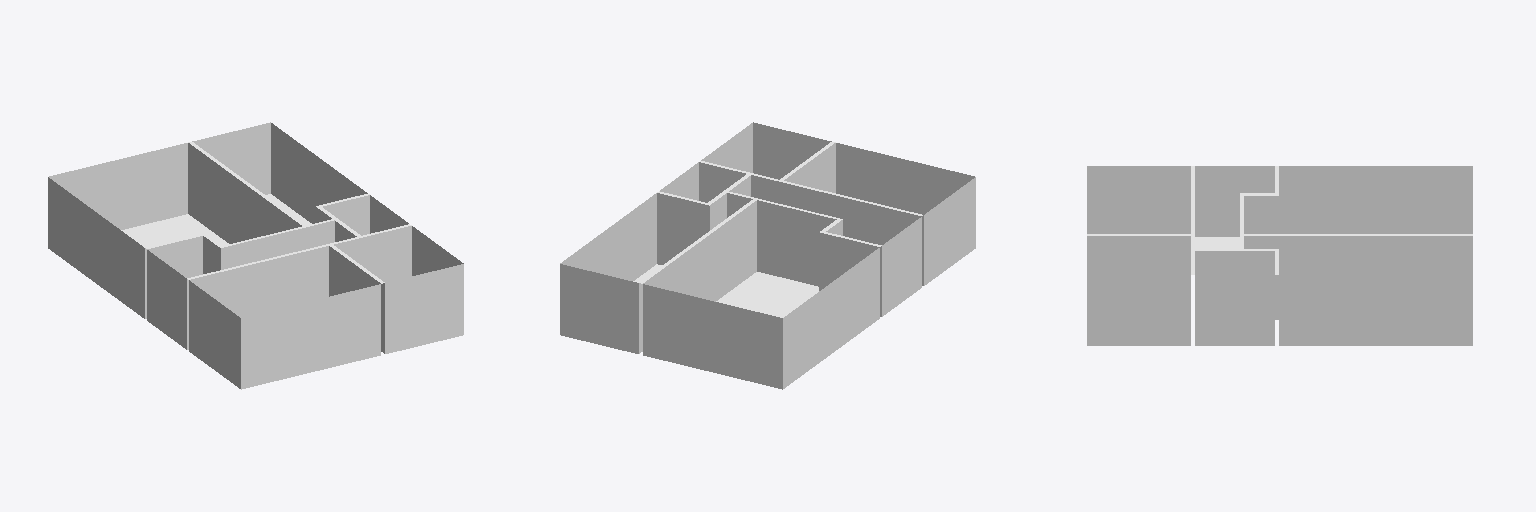
The model's file is maison.obj.
3 views of the same model, side by side, from view 1: azimuth 30°, elevation 25°; view 2: azimuth 150°, elevation 25°; view 3: azimuth 270°, elevation 25° (orthographic).
Parts seen in each view (by area): view 1: Plane001; view 2: Plane001; view 3: Plane001.
Part boxes in pixels (bbox=[...]): Plane001: bbox=[48, 122, 463, 389]; Plane001: bbox=[560, 122, 975, 389]; Plane001: bbox=[1087, 166, 1472, 345].
Size of the model in its own units: 315 by 96.41 by 472.